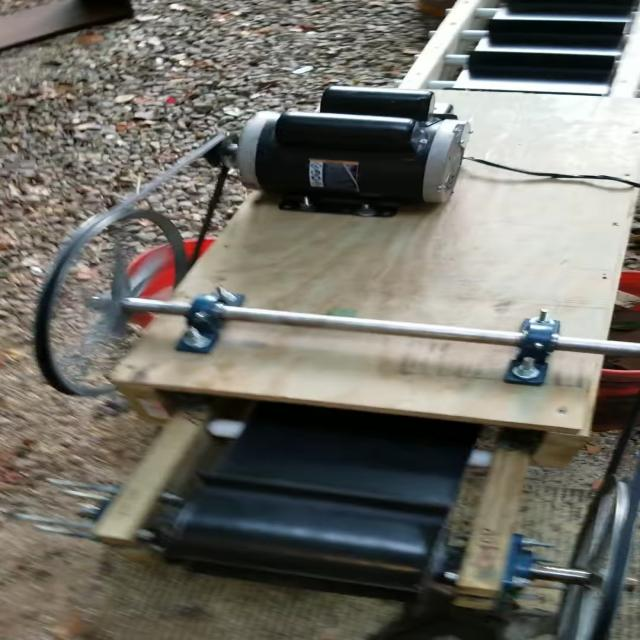Convoyeur: (83, 0, 640, 611)
